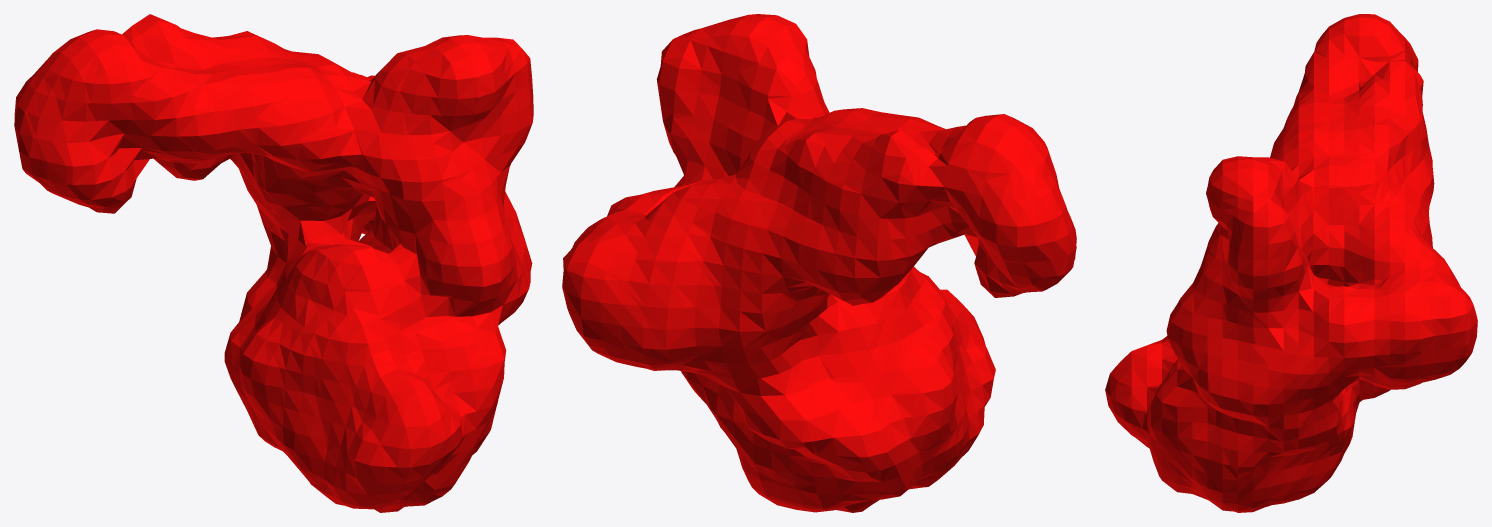
The model's file is tyrA_coarse.dae.
3 renders of one model, left to right at view 1: azimuth 30°, elevation 25°; view 2: azimuth 150°, elevation 25°; view 3: azimuth 270°, elevation 25°, orthographic. The views are drawn at different scales.
Visible parts, largest first — view 1: tyrA; view 2: tyrA; view 3: tyrA.
Boxes of the visible parts, bbox=[...] form: tyrA: bbox=[14, 14, 533, 512]; tyrA: bbox=[562, 14, 1076, 512]; tyrA: bbox=[1105, 14, 1477, 512].
Size of the model in its own units: 76.31 by 76.4 by 63.66.
